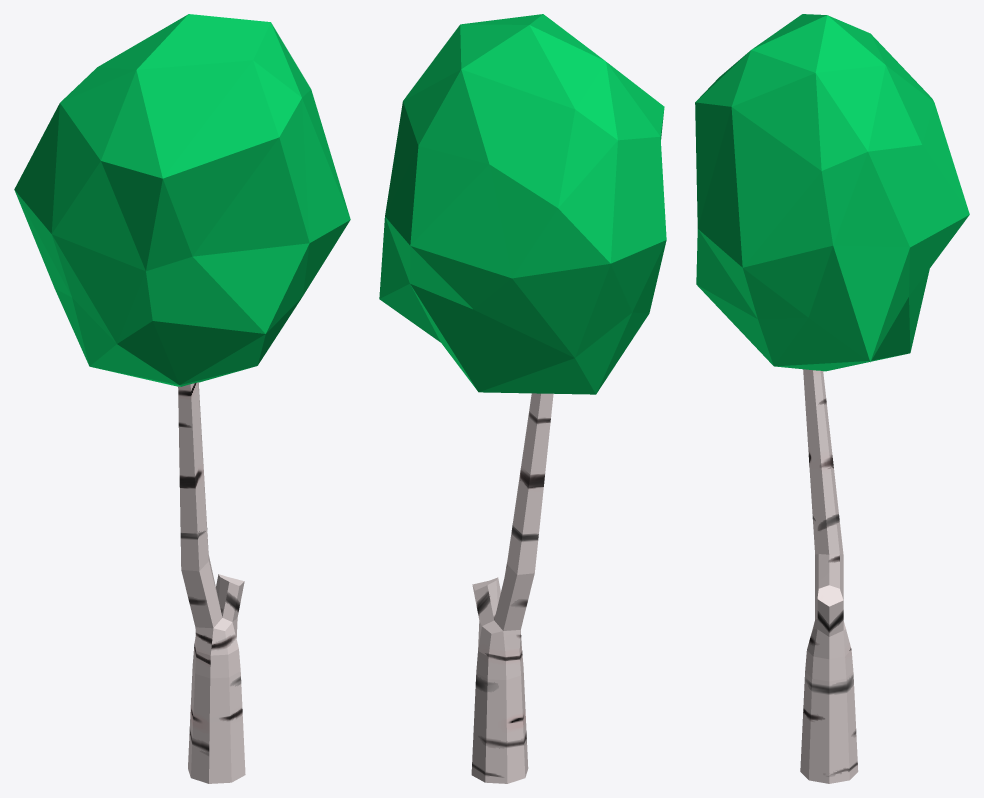
Rendered from V2_Birch_2.fbx.
The picture shows the model from 3 angles, left to right: view 1: azimuth 30°, elevation 25°; view 2: azimuth 150°, elevation 25°; view 3: azimuth 270°, elevation 25°; orthographic projection. The views are drawn at different scales.
Visible parts, largest first — view 1: V2 Birch 2_LOD0; view 2: V2 Birch 2_LOD0; view 3: V2 Birch 2_LOD0.
Boxes of the visible parts, x1,y1,x2,y2 form: V2 Birch 2_LOD0: (14,14,350,783); V2 Birch 2_LOD0: (379,14,666,783); V2 Birch 2_LOD0: (695,14,969,783).
Size of what is drawn, in the model's own units: 300 by 817 by 274.
